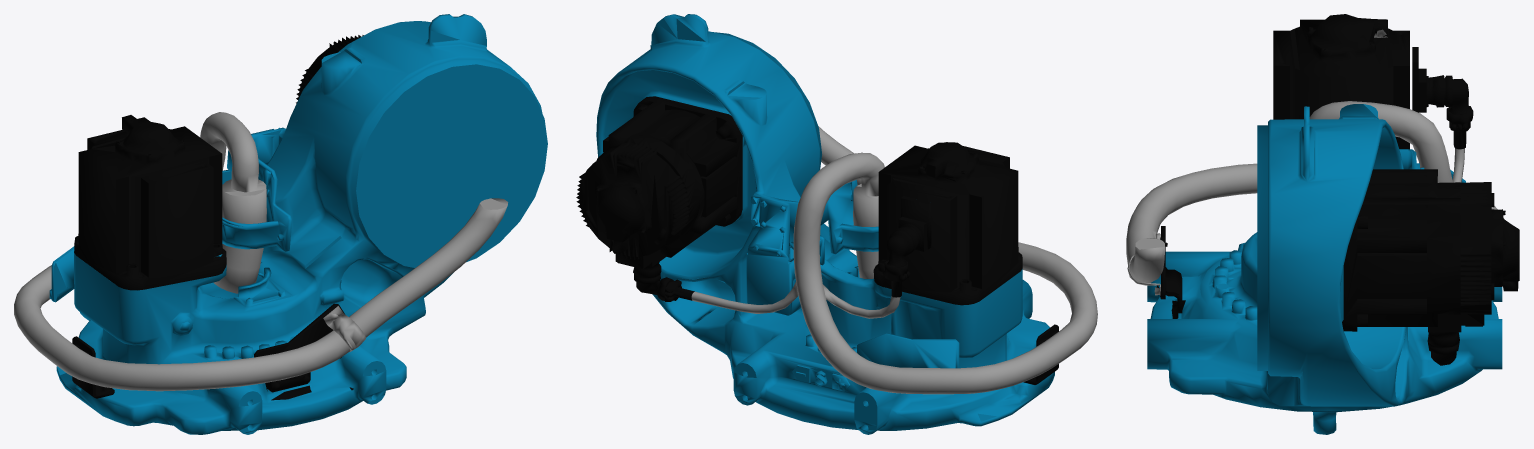
The picture shows the model from 3 angles, left to right: view 1: azimuth 30°, elevation 25°; view 2: azimuth 150°, elevation 25°; view 3: azimuth 270°, elevation 25°; orthographic projection. The views are drawn at different scales.
Parts seen in each view (by area): view 1: f_1-06vxl70-a0_lk1; view 2: f_1-06vxl70-a0_lk1; view 3: f_1-06vxl70-a0_lk1.
Boxes of the visible parts, <box> form: f_1-06vxl70-a0_lk1: <box>14,14,547,434</box>; f_1-06vxl70-a0_lk1: <box>576,14,1097,434</box>; f_1-06vxl70-a0_lk1: <box>1126,14,1519,434</box>.
Size of the model in its own units: 0.8073 by 0.5189 by 0.5293.
